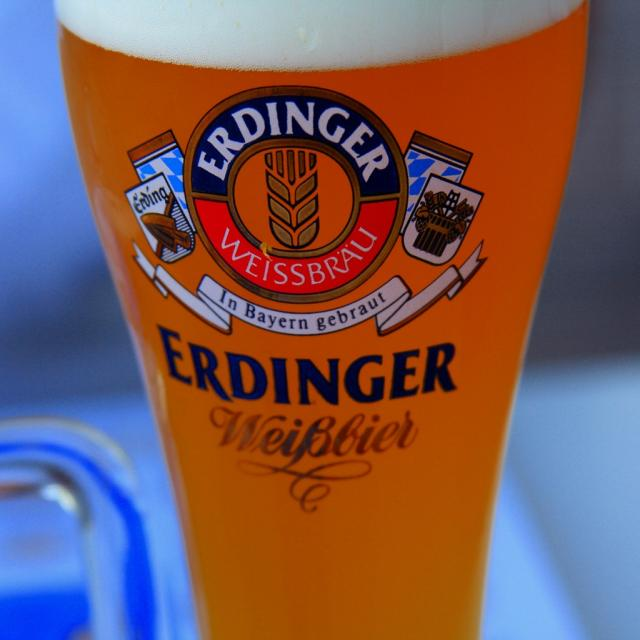erdinger: (117, 74, 501, 409)
